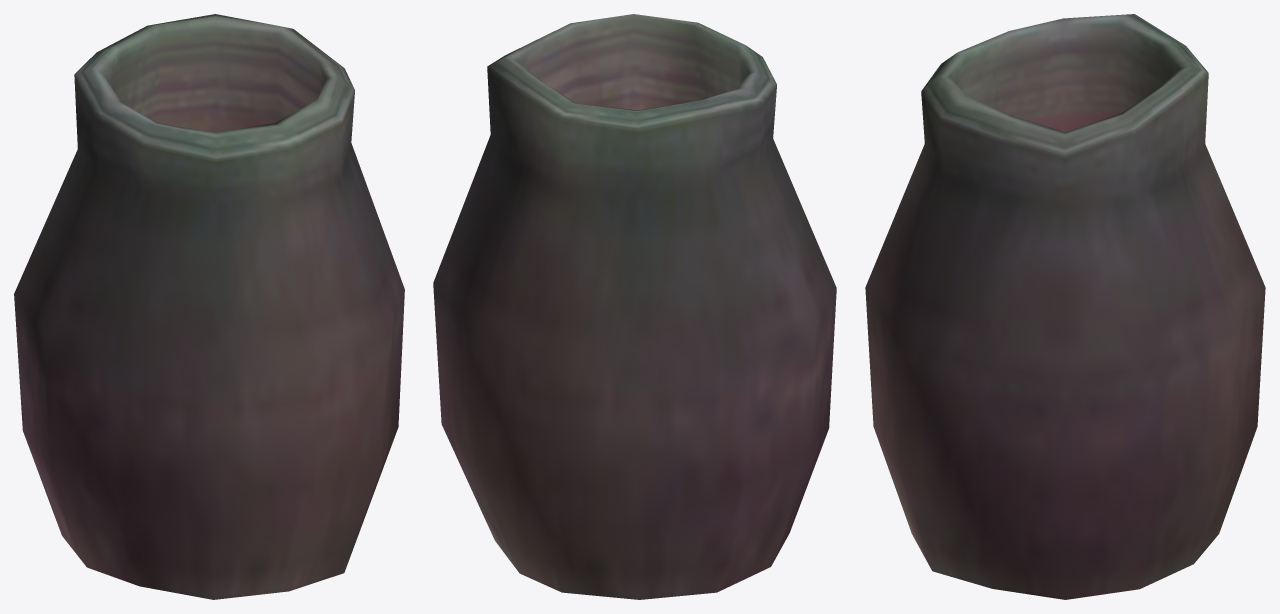
3 views of the same model, side by side, from view 1: azimuth 30°, elevation 25°; view 2: azimuth 150°, elevation 25°; view 3: azimuth 270°, elevation 25° (orthographic). The views are drawn at different scales.
Visible parts, largest first — view 1: LV_Common_Object_A_Jar06_SM_CNH; view 2: LV_Common_Object_A_Jar06_SM_CNH; view 3: LV_Common_Object_A_Jar06_SM_CNH.
Part boxes in pixels (x1,y1,x2,y2): LV_Common_Object_A_Jar06_SM_CNH: [14, 14, 404, 599]; LV_Common_Object_A_Jar06_SM_CNH: [433, 14, 836, 599]; LV_Common_Object_A_Jar06_SM_CNH: [865, 14, 1265, 599].
Size of the model in its own units: 0.0835 by 0.1093 by 0.0824.
Materials: 1 (1 with a texture image).
